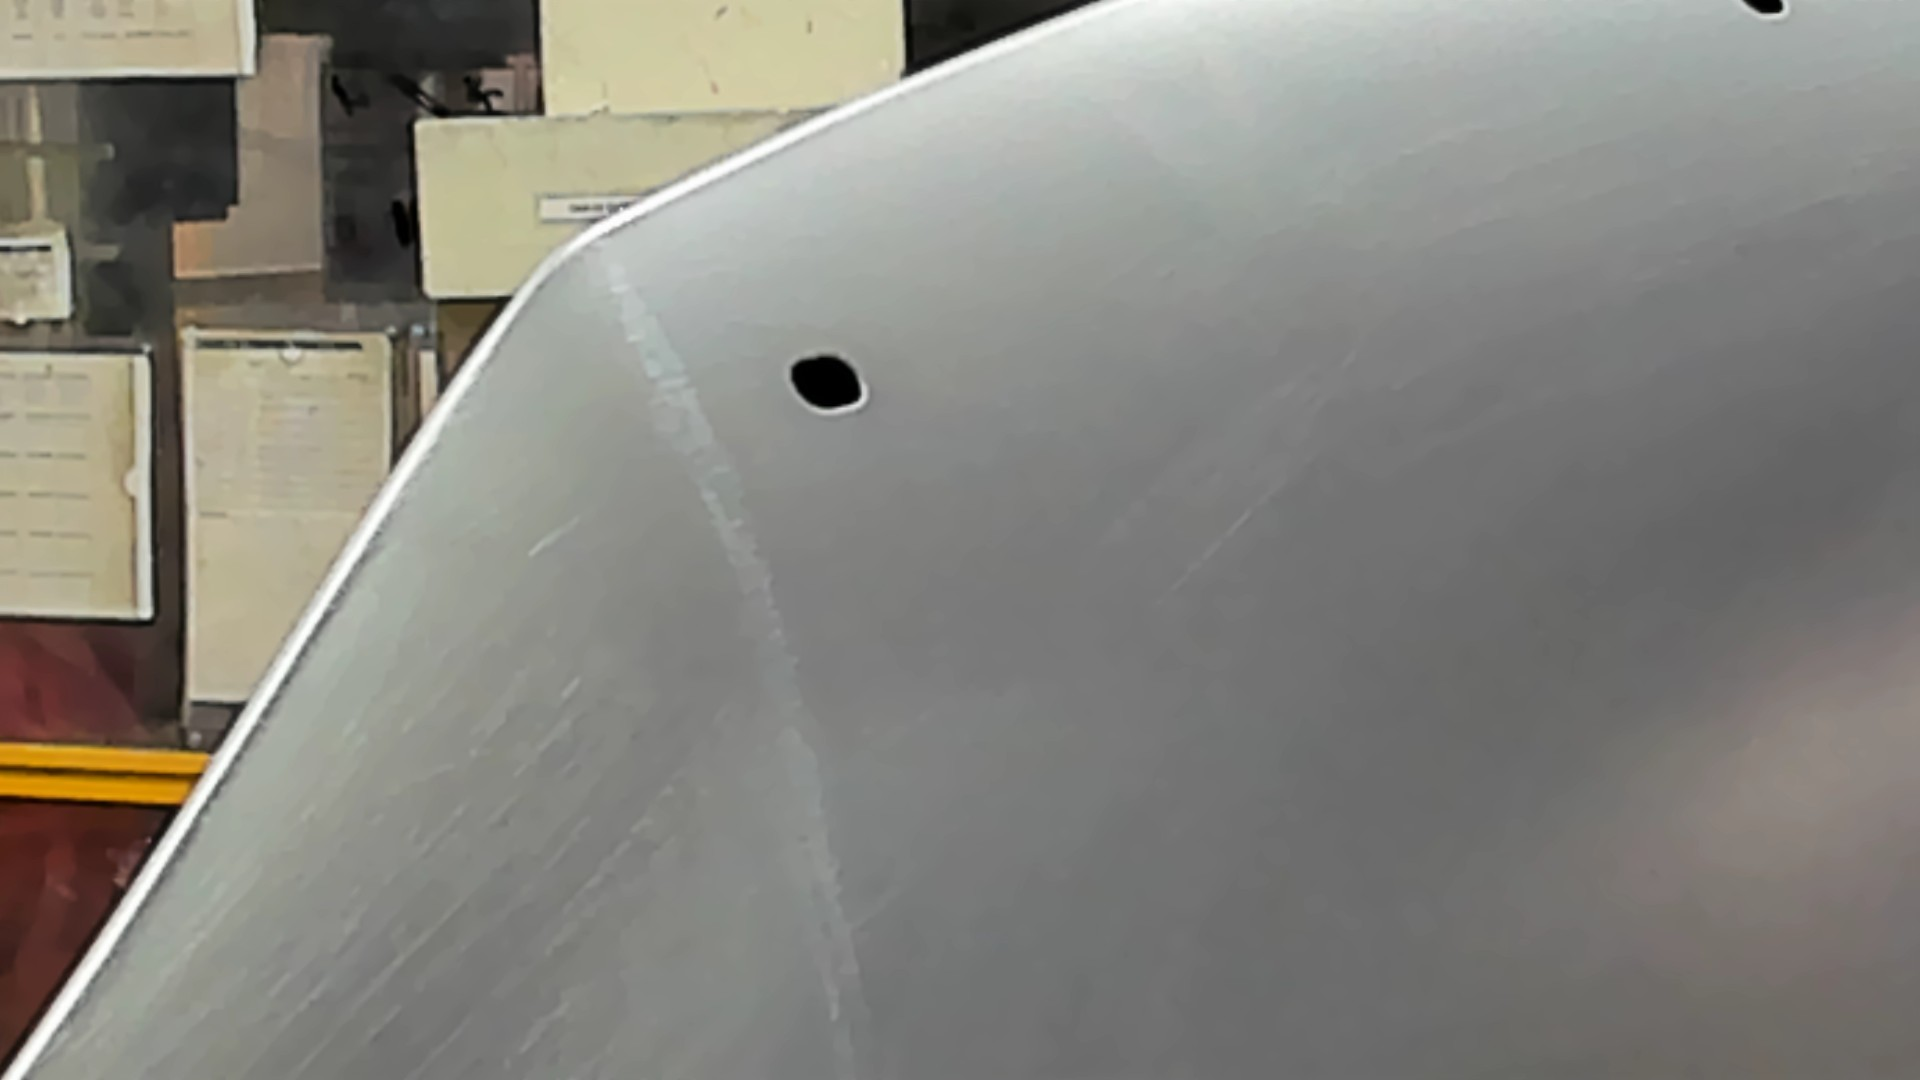amorfo: (785, 345, 884, 423), (1725, 1, 1795, 26)
